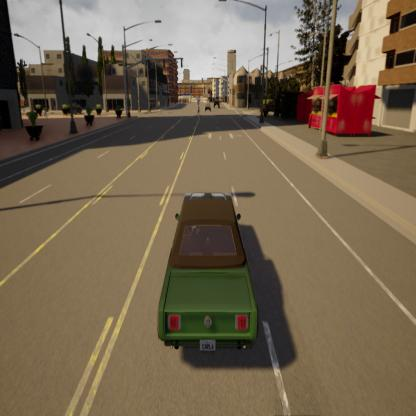Cars: (156, 182, 266, 366)
